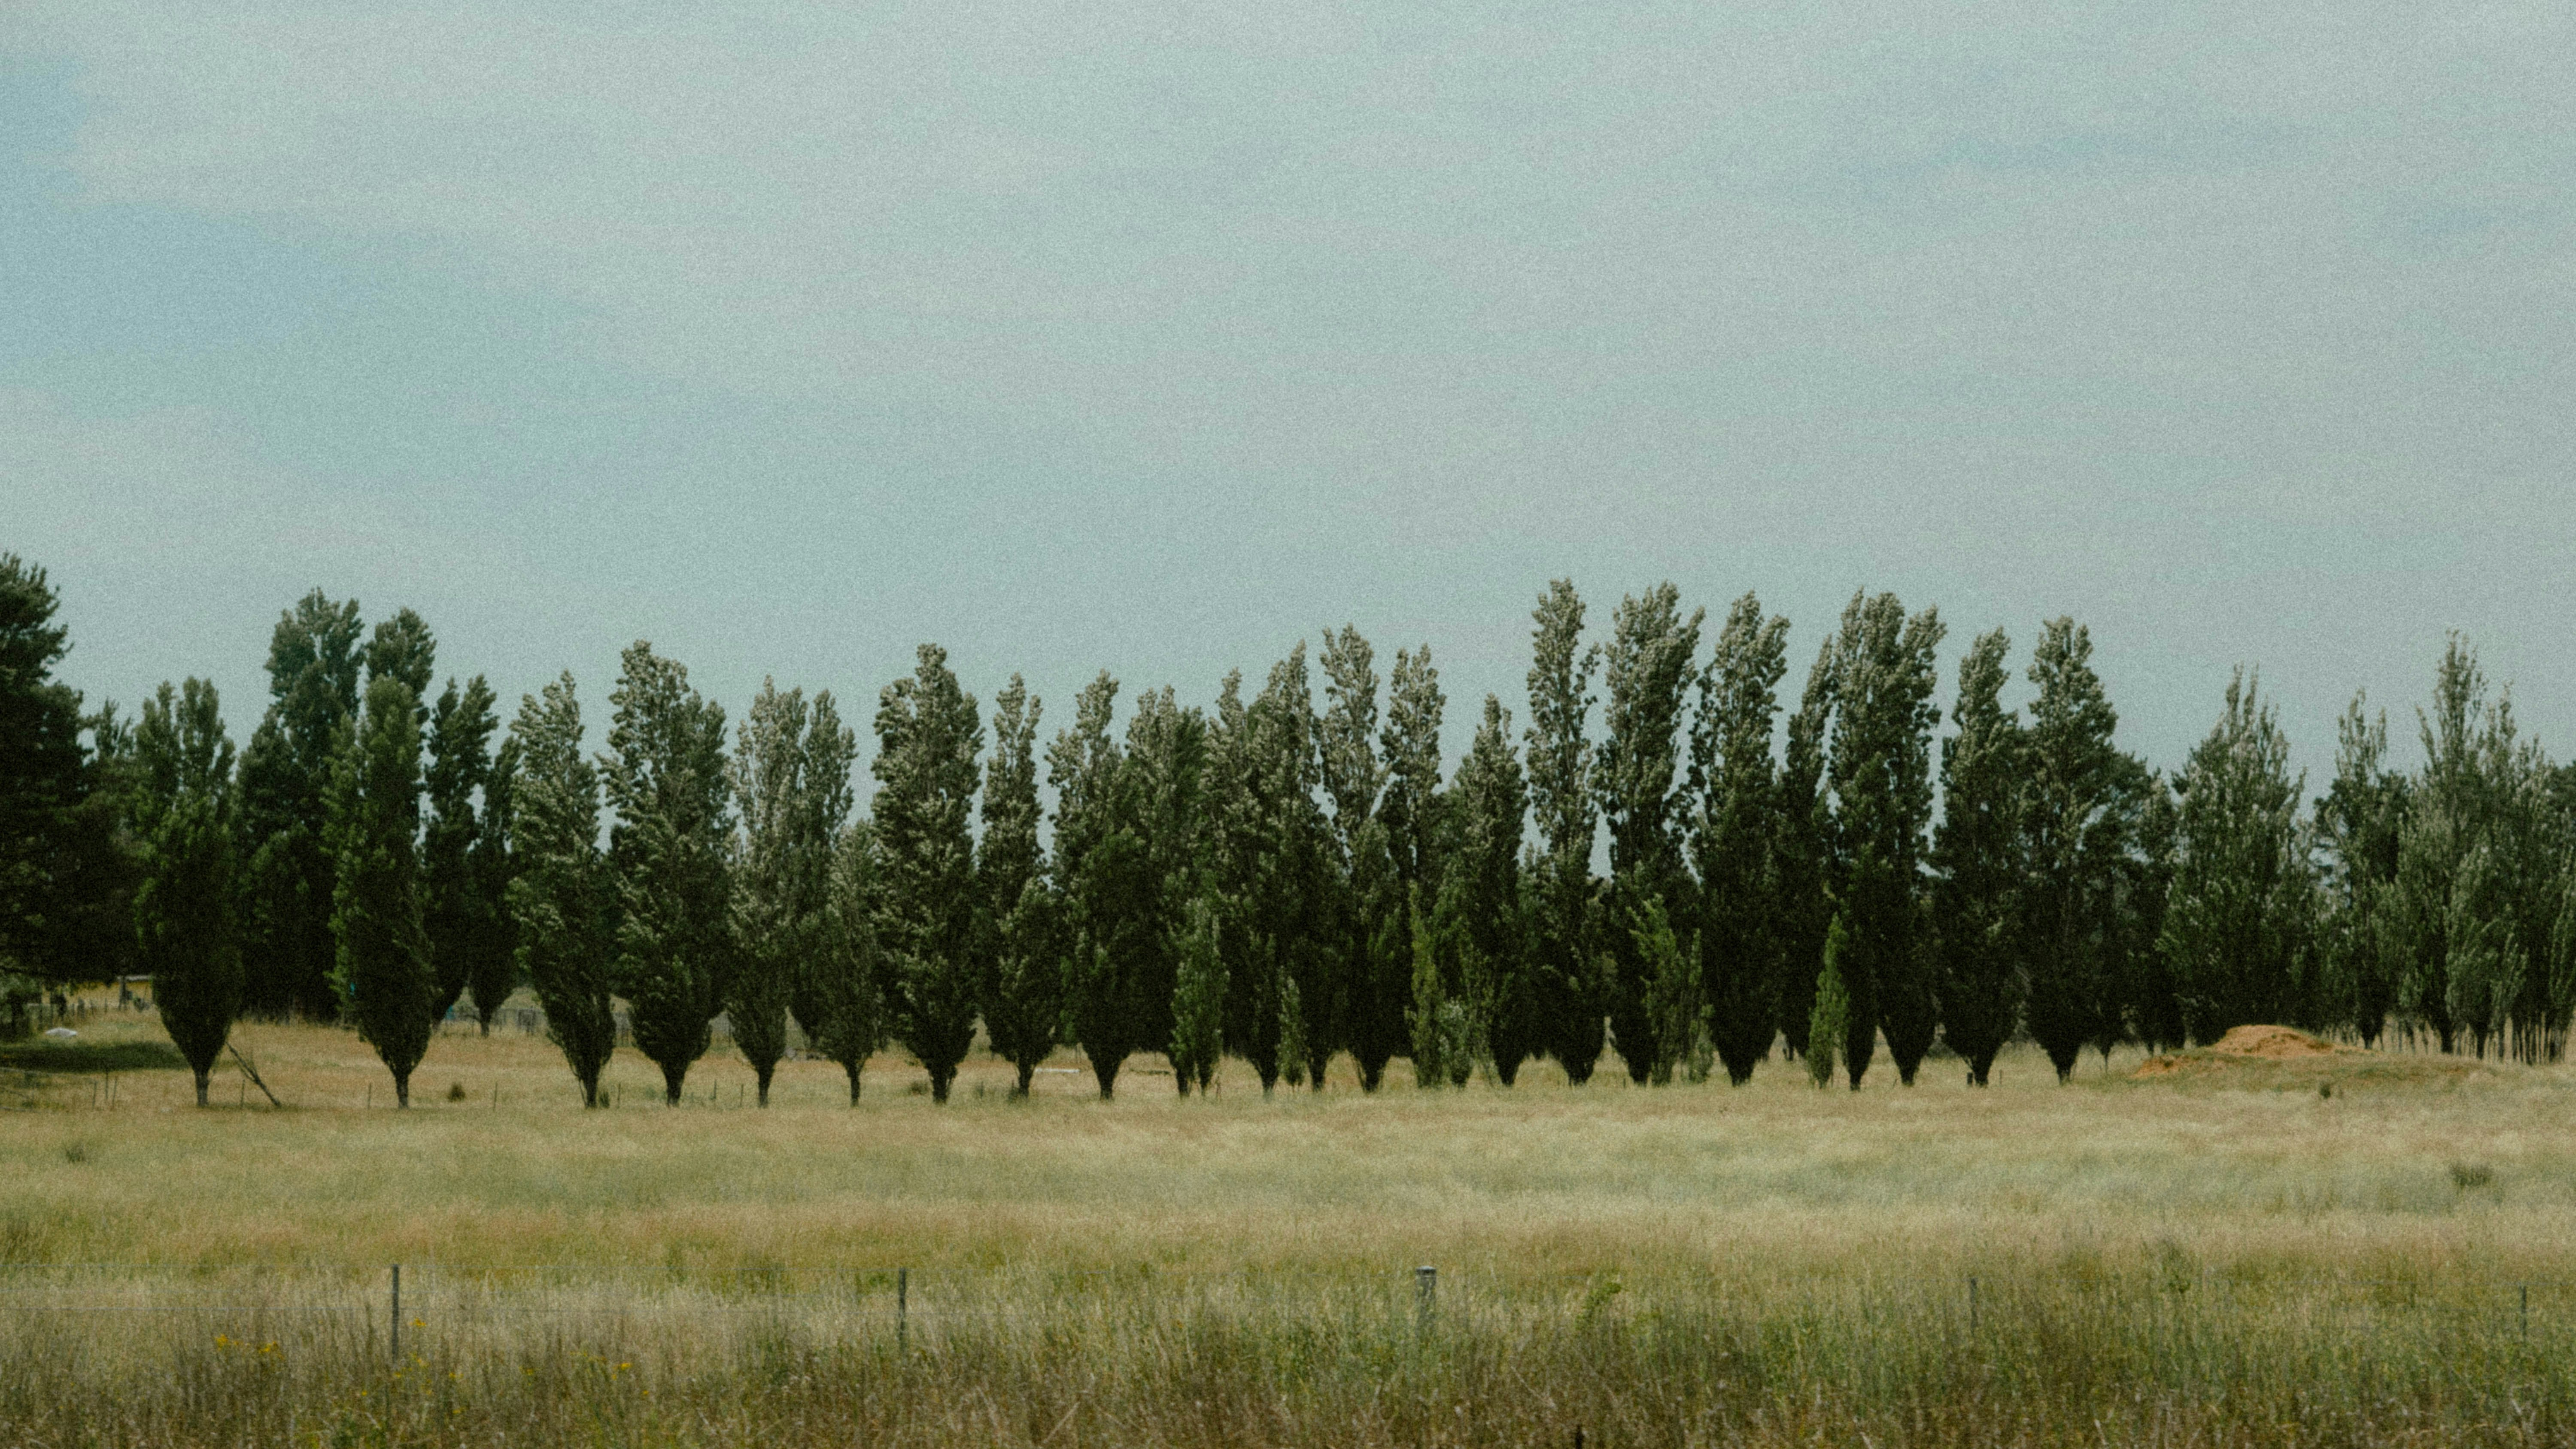tree: (168, 1003, 226, 1106), (570, 1049, 605, 1108), (655, 1051, 685, 1108), (2043, 1046, 2075, 1097), (389, 1062, 416, 1111), (1173, 1054, 1198, 1106), (1819, 1046, 1842, 1100), (754, 1056, 778, 1106), (1844, 1040, 1868, 1090), (839, 1056, 865, 1100), (476, 994, 501, 1040), (925, 1049, 947, 1102), (1010, 1054, 1033, 1102), (1357, 1051, 1382, 1095), (1092, 1054, 1116, 1095), (1967, 1054, 1990, 1097), (1428, 1056, 1449, 1100), (1309, 1049, 1327, 1097), (2095, 1046, 2116, 1081), (2539, 1005, 2551, 1062), (2500, 1017, 2514, 1062), (2360, 1008, 2376, 1046), (1500, 1062, 1520, 1090), (2468, 1024, 2482, 1060), (1904, 1049, 1914, 1085), (1258, 1069, 1265, 1092), (1571, 1056, 1578, 1079)
